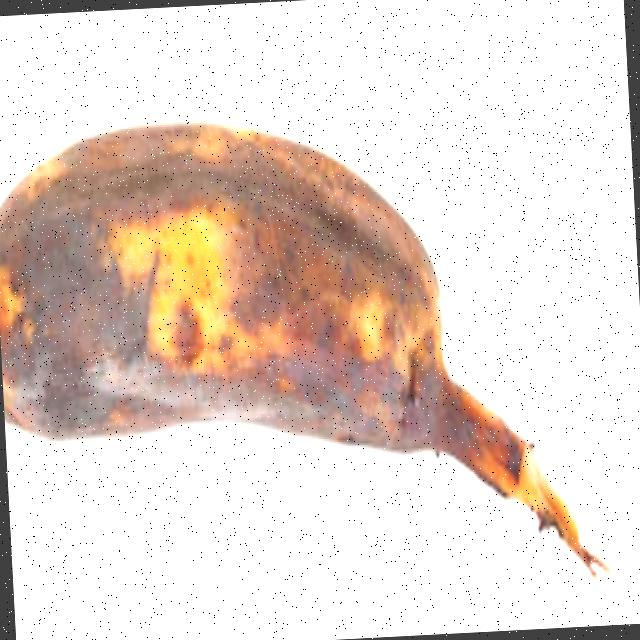Rotten: (0, 81, 613, 635)
